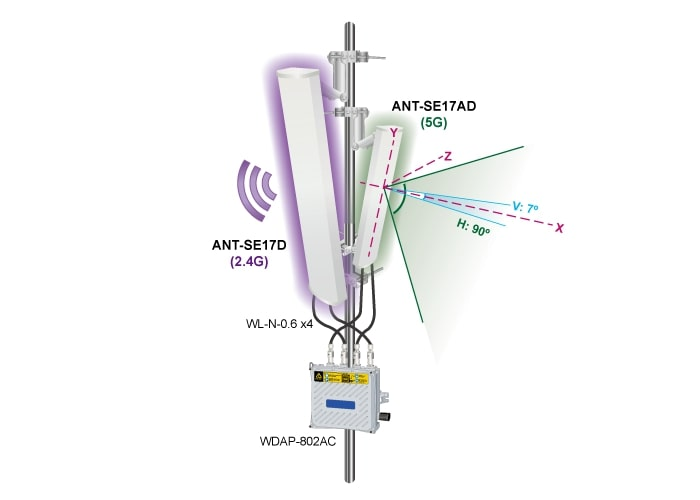sa: (264, 28, 383, 370)
